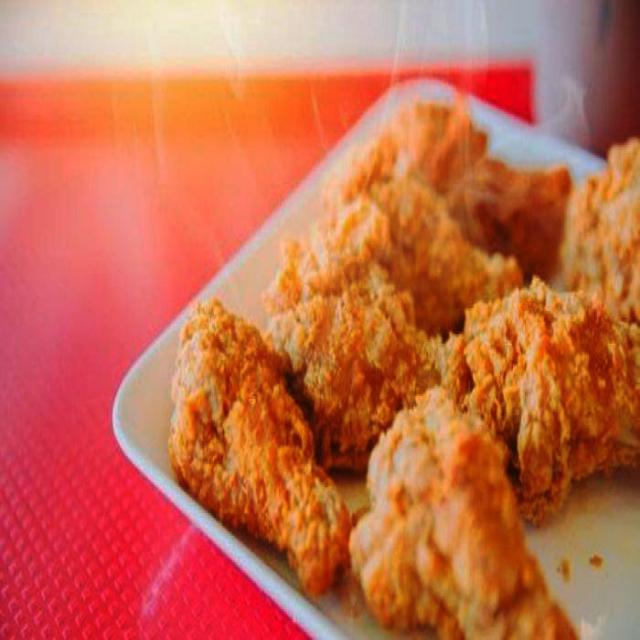fried_chicken: (351, 383, 573, 638), (168, 295, 350, 588), (265, 213, 457, 460), (450, 283, 640, 518), (344, 181, 523, 332)
